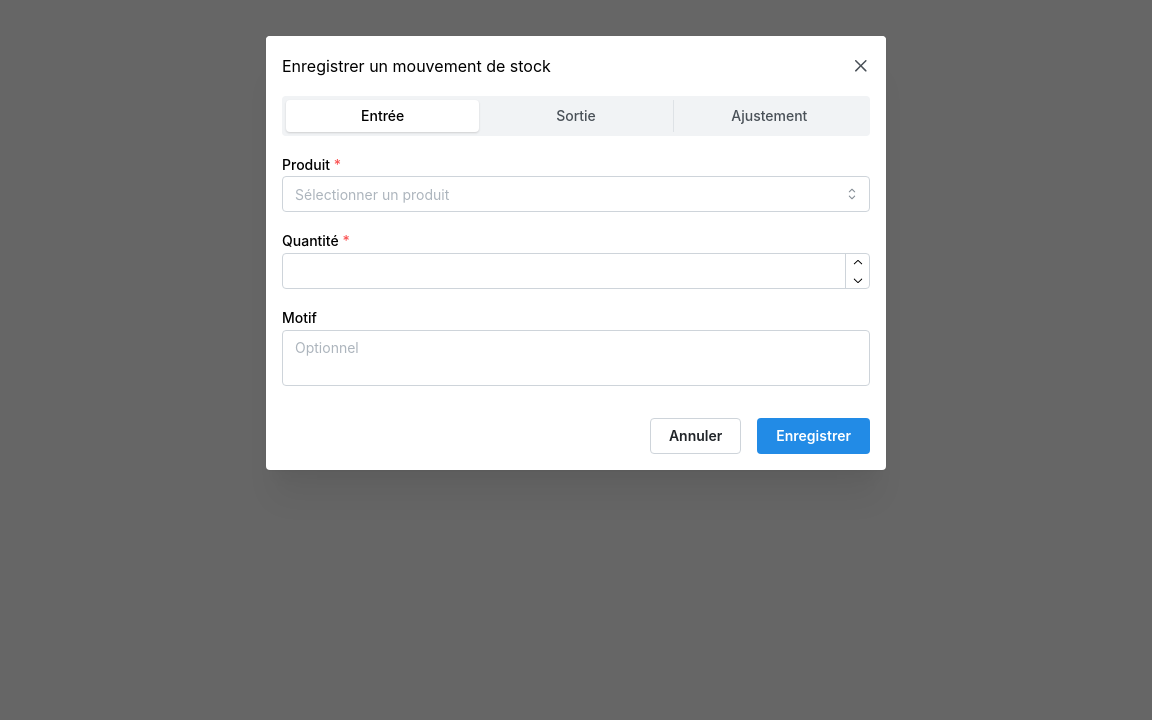
Scenario: StockMovementFormModal › BUG-005 : affiche une alerte inline persistante quand le stock est insuffisant
The image size is (1152, 720).
Click the text "Sortie" at (576, 116), box [556, 107, 596, 124]
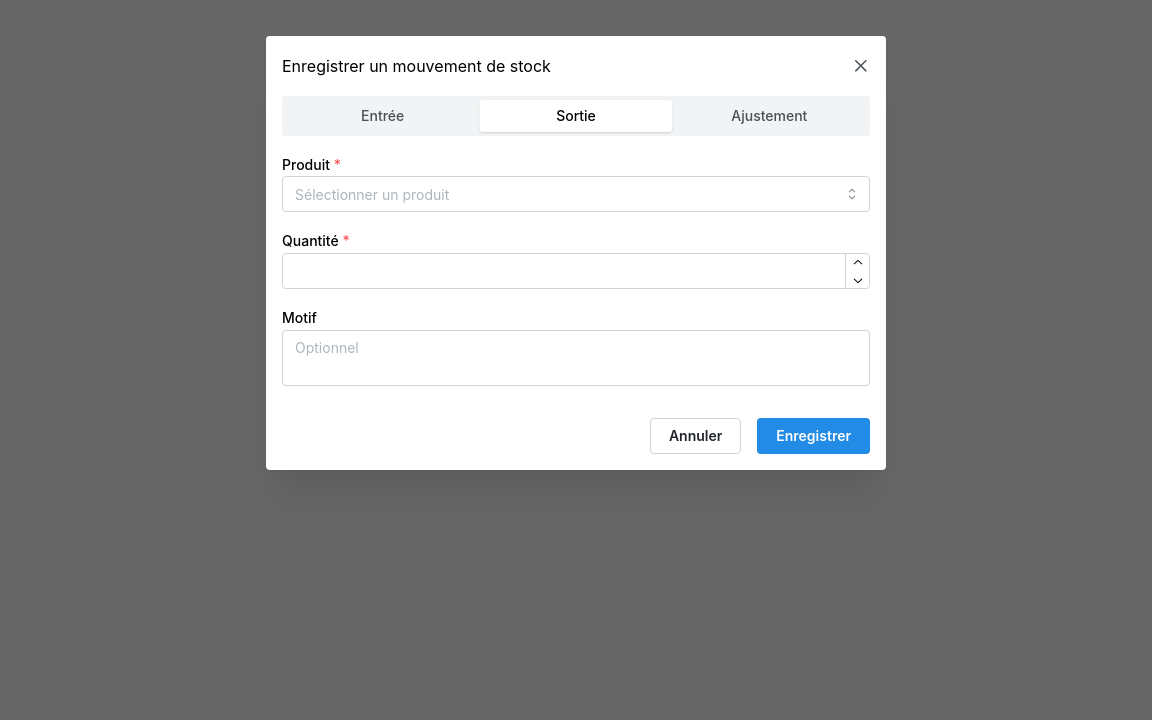
Press the mouse on the field with placeholder "Sélectionner un produit" at (576, 194), box [282, 176, 870, 212]
Type "Riz" into the field with placeholder "Sélectionner un produit" at (576, 194), box [282, 176, 870, 212]
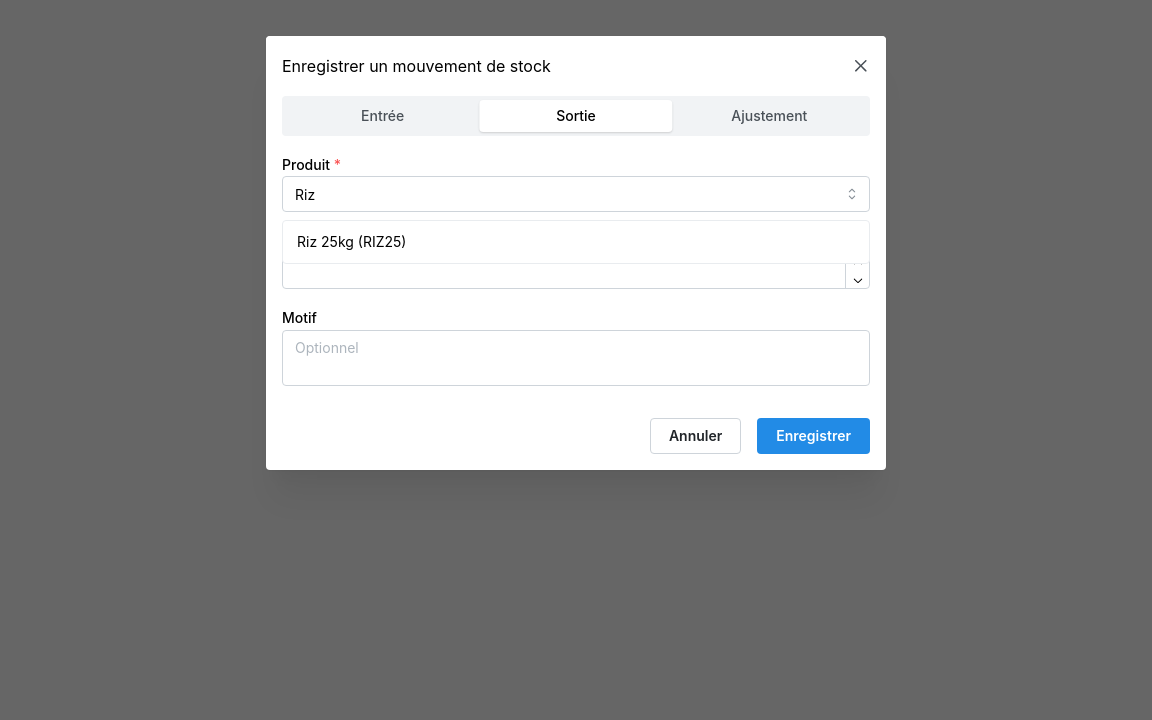
Click the option "Riz 25kg (RIZ25)" at (352, 242), box [297, 234, 406, 250]
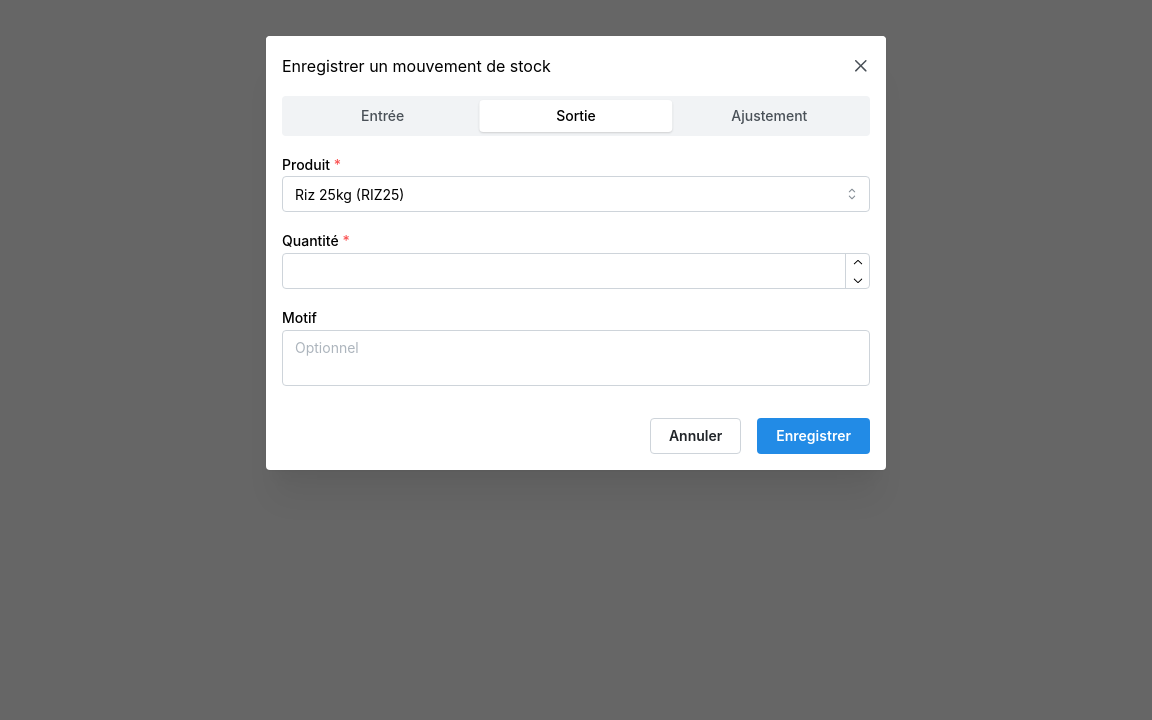
Type "999" into the field labelled "Quantité *" at (576, 271), box [282, 253, 870, 289]
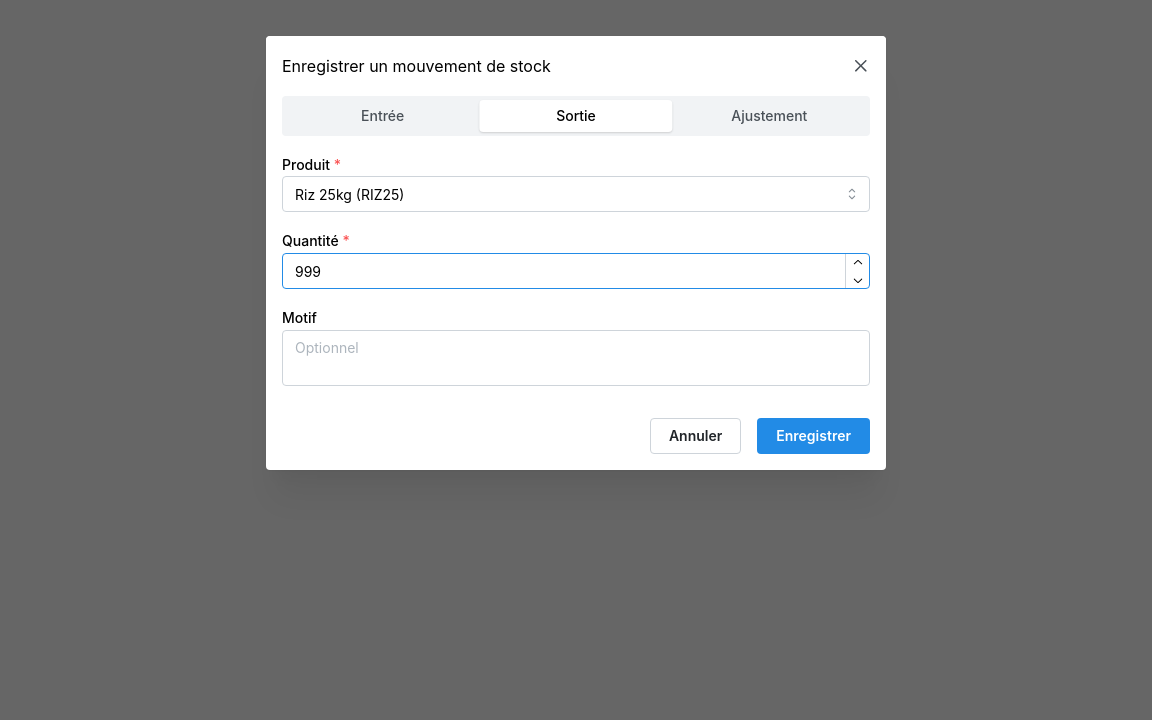
Click the button "Enregistrer" at (814, 436), box [757, 418, 870, 454]
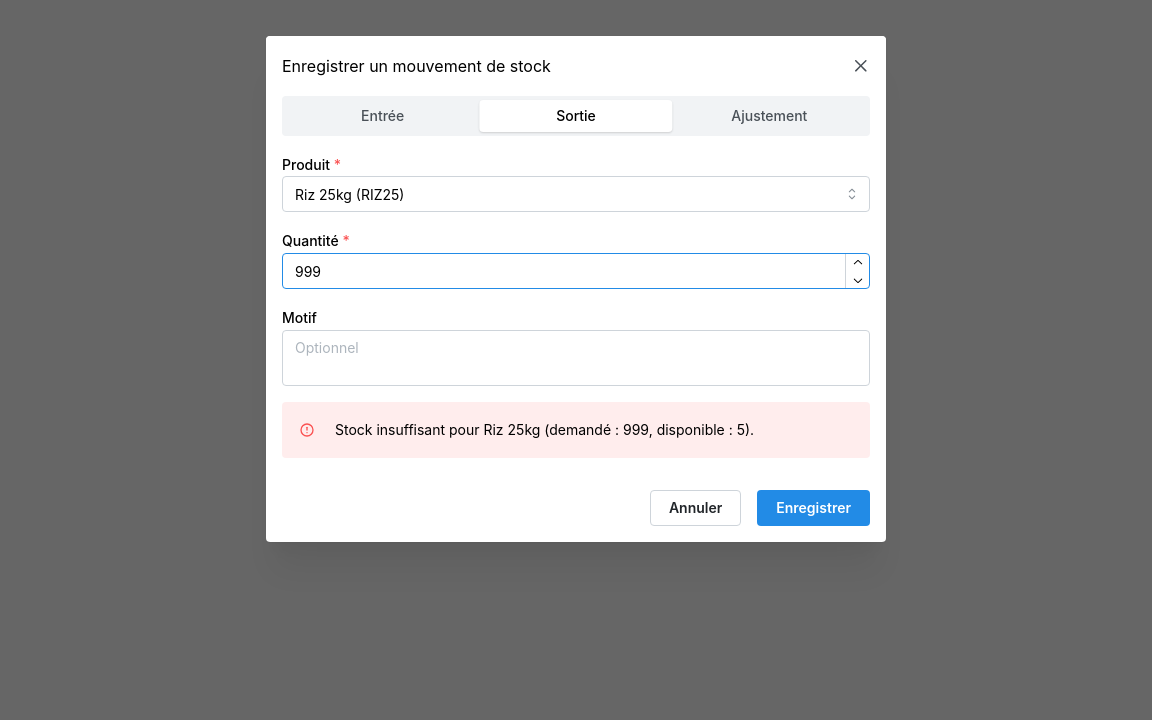
Result: the text "Stock insuffisant pour Riz 25kg (demandé : 999, disponible : 5)." is shown at [335, 422, 754, 438]
